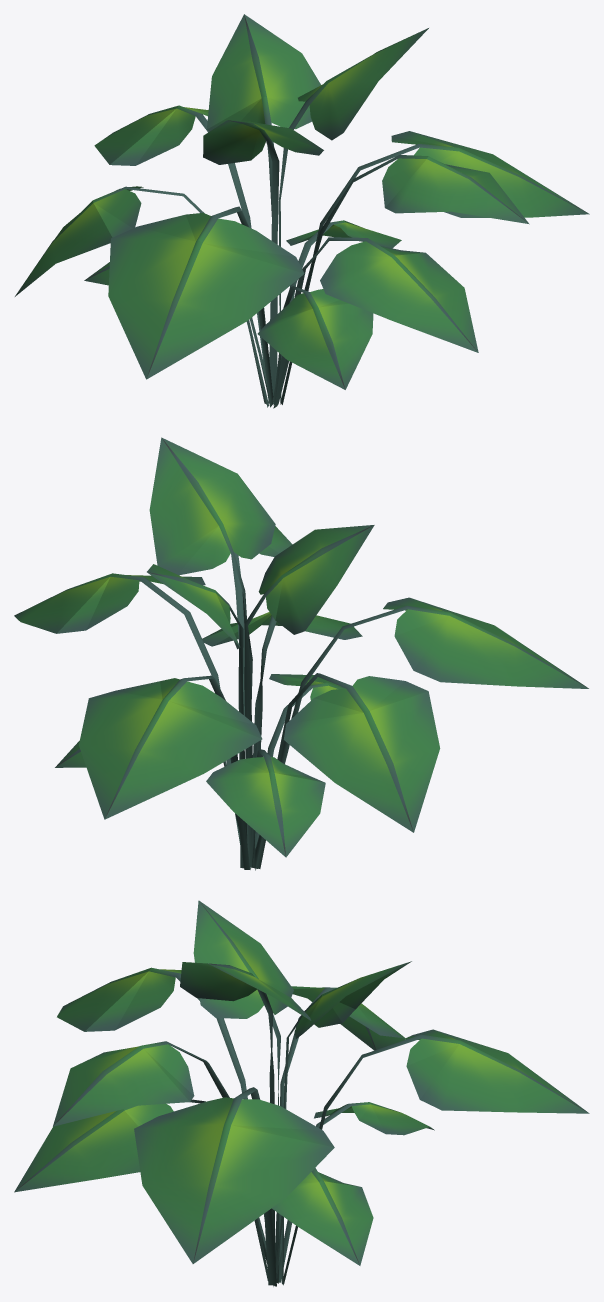
The model's file is plant_18.fbx.
3 views of the same model, one above another, from view 1: azimuth 30°, elevation 25°; view 2: azimuth 150°, elevation 25°; view 3: azimuth 270°, elevation 25° (orthographic). The views are drawn at different scales.
Parts seen in each view (by area): view 1: plant_18; view 2: plant_18; view 3: plant_18.
Part boxes in pixels (box(x1,y1,x2,y2)): plant_18: box(15, 14, 589, 408); plant_18: box(14, 437, 588, 870); plant_18: box(14, 900, 589, 1286).
Bounding box in the file's own units: 3.89 × 2.75 × 3.73.
